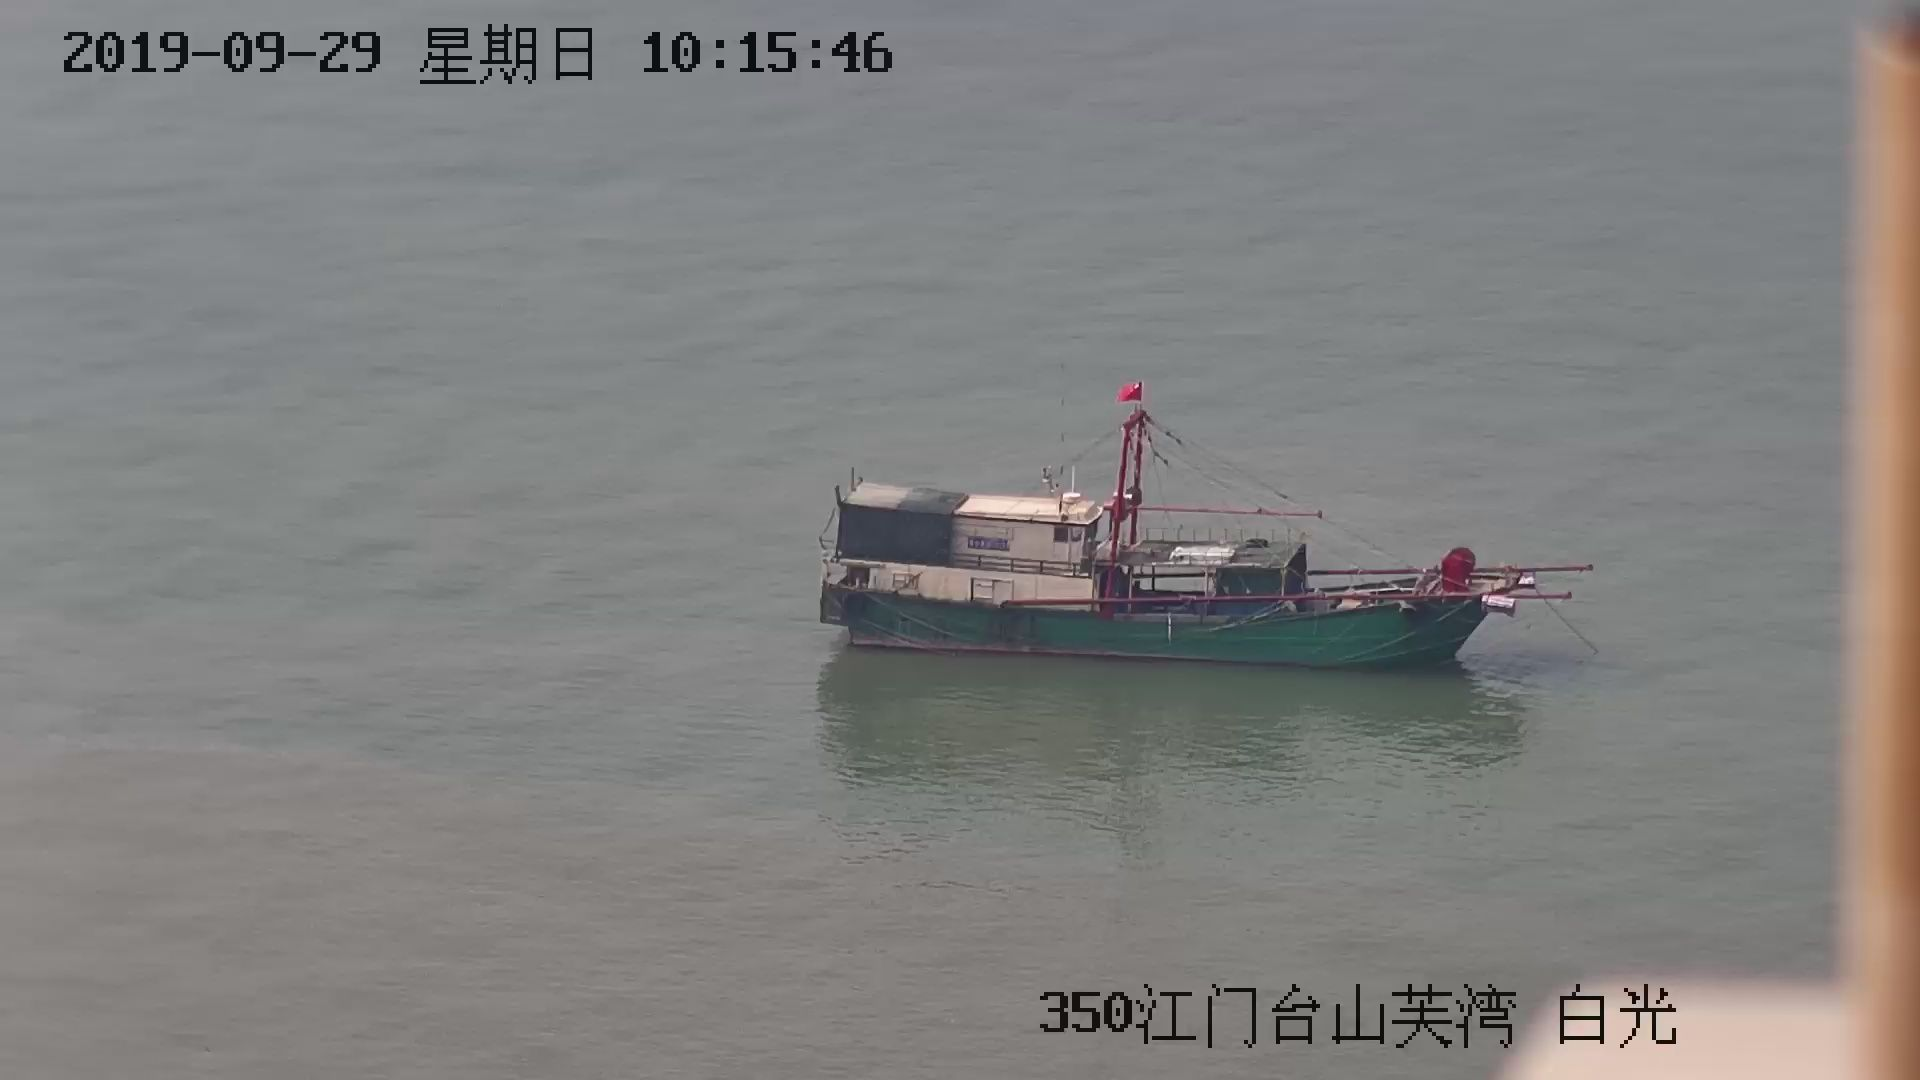ship: (814, 371, 1601, 674)
